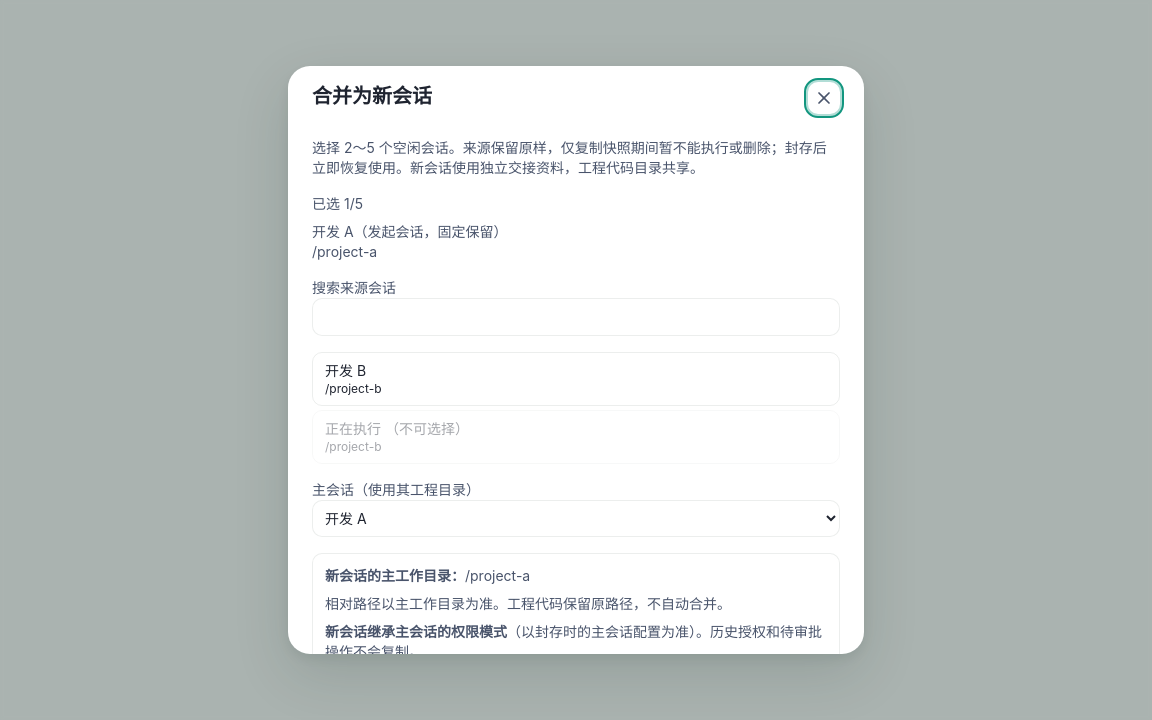
Test: opens E through existing activation only while the initiating panel remains open
The width and height of the screenshot is (1152, 720).
Click the button "开发 B /project-b" at [346, 370], box top-left (312, 352), bottom-right (840, 406)
(page scrolled)
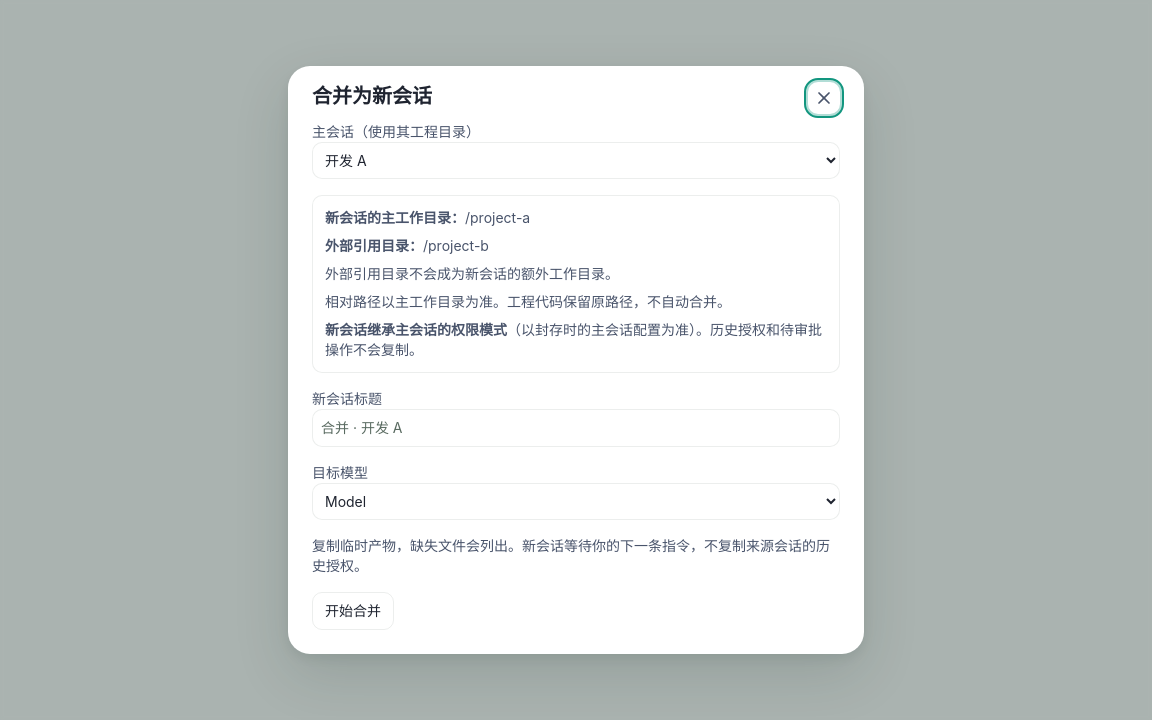
Click the button "开始合并" at [353, 611], box top-left (312, 592), bottom-right (394, 630)
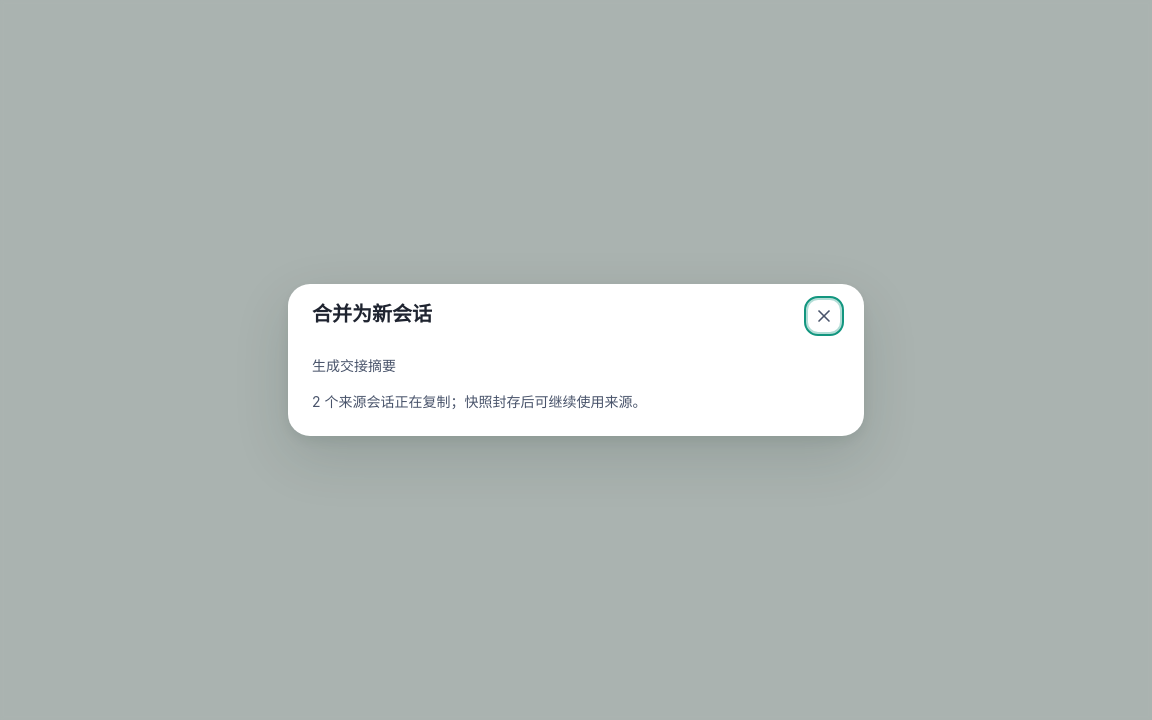
Check: the text "生成交接摘要" is shown, box top-left (312, 357), bottom-right (396, 374)
